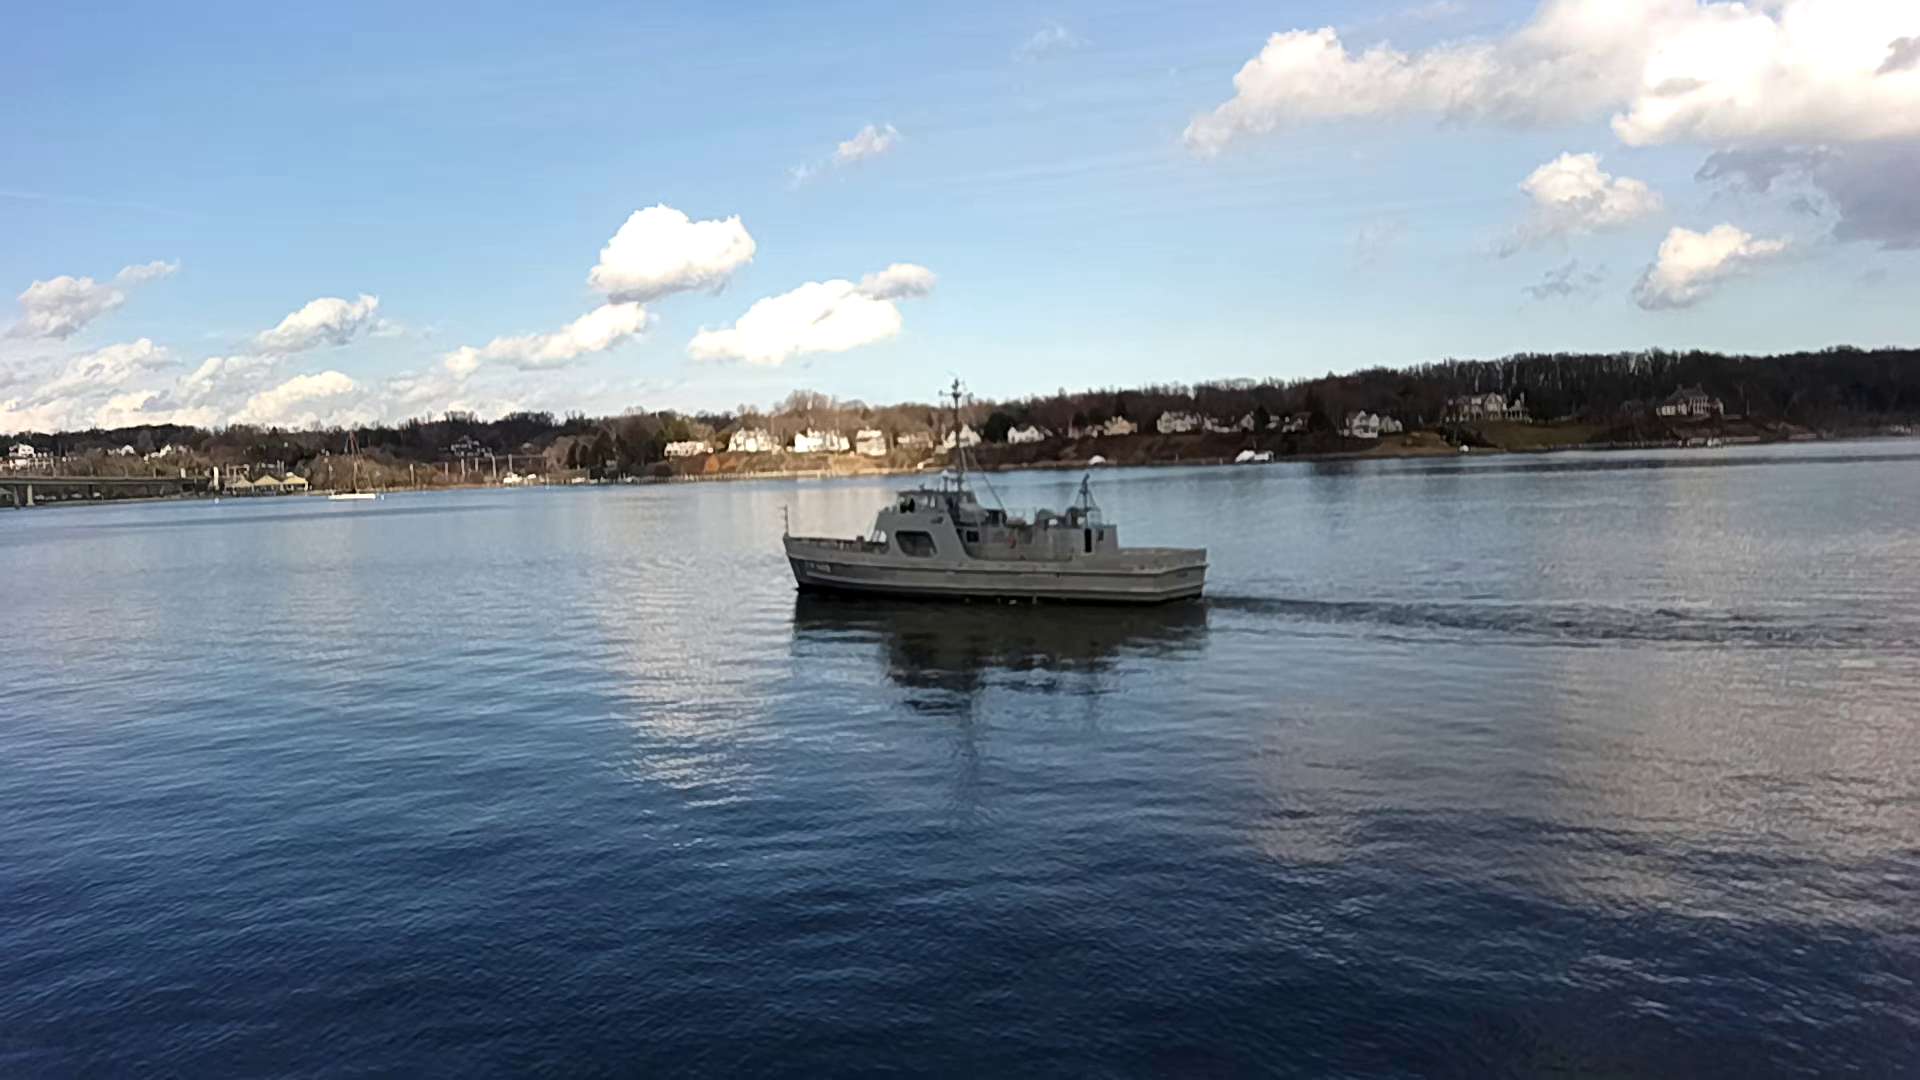YP689: (783, 378, 1211, 616)
